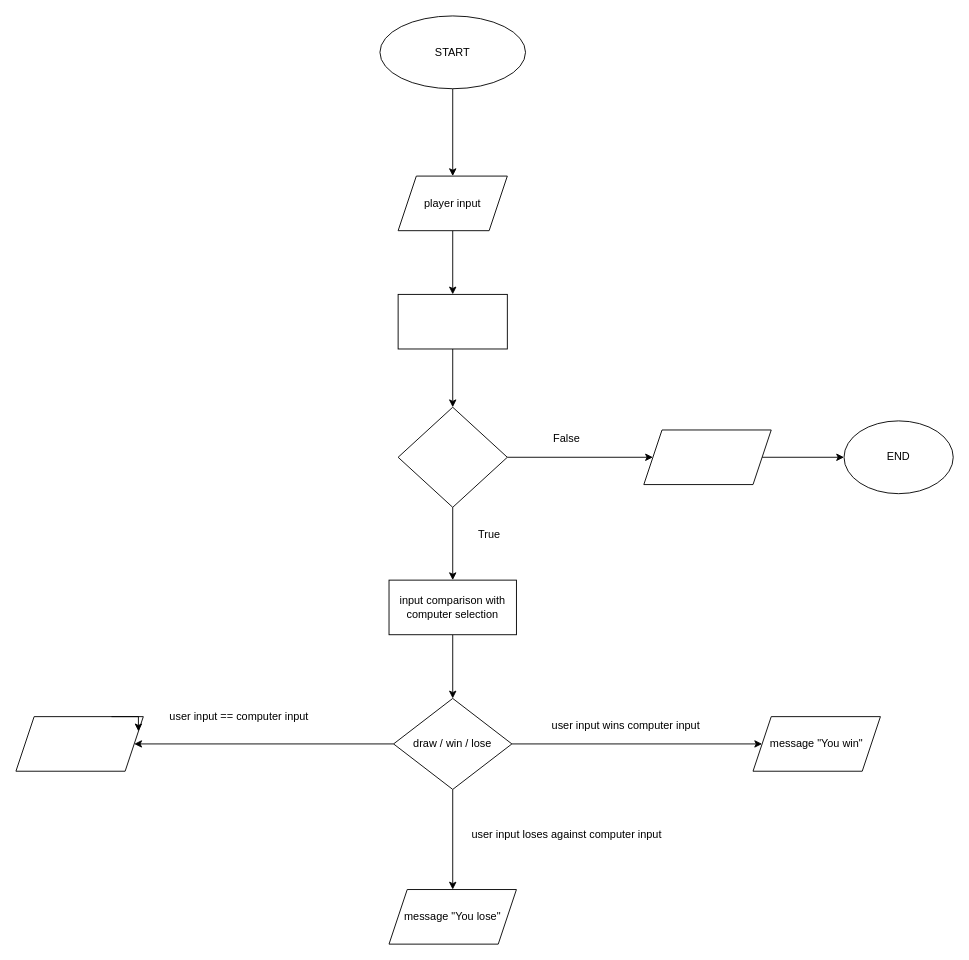
Some shapes in this 969 by 960 pixel diagram are drawn without their labels. Each missing label, with the box of its shape:
error message: (643, 429, 771, 485)
input validation: (397, 293, 507, 349)
message "DRAW": (15, 716, 143, 771)
Valid? True/False: (397, 406, 507, 507)
